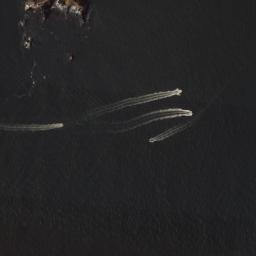boat: (188, 112, 192, 114), (149, 140, 151, 142), (43, 76, 45, 78), (180, 90, 182, 91), (62, 125, 64, 125)
